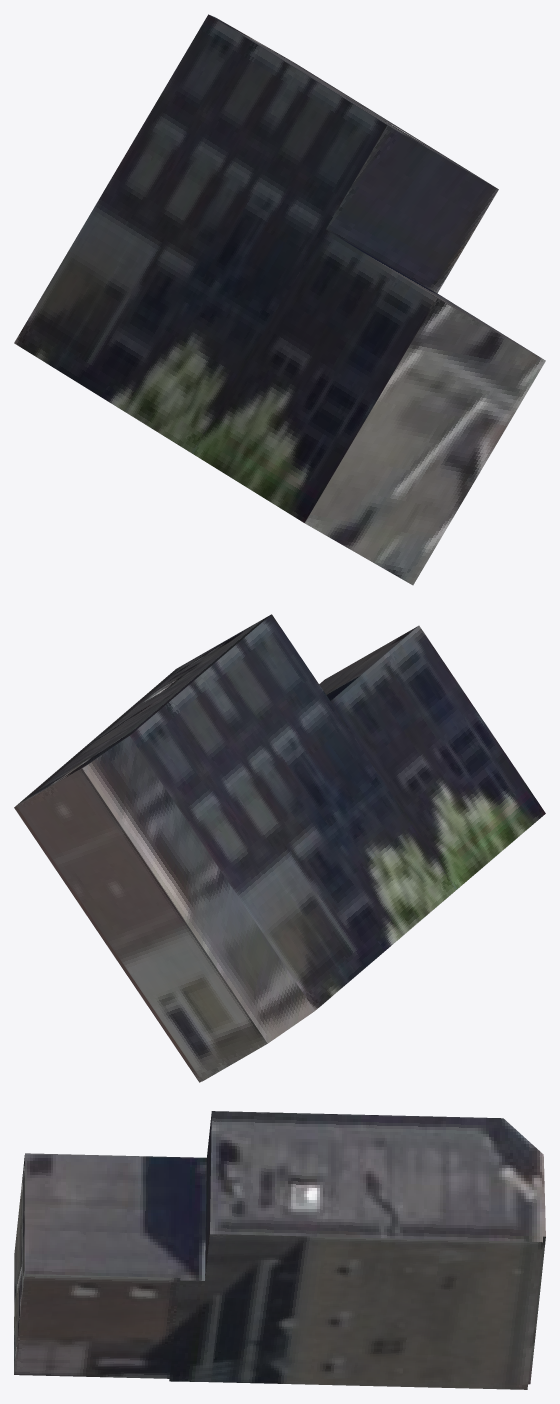
The picture shows the model from 3 angles, top to bottom: view 1: azimuth 30°, elevation 25°; view 2: azimuth 150°, elevation 25°; view 3: azimuth 270°, elevation 25°; orthographic projection. The views are drawn at different scales.
Parts seen in each view (by area): view 1: BAG_0599100000760421; view 2: BAG_0599100000760421; view 3: BAG_0599100000760421.
Boxes of the visible parts, bbox=[...] form: BAG_0599100000760421: bbox=[14, 14, 545, 585]; BAG_0599100000760421: bbox=[14, 614, 545, 1082]; BAG_0599100000760421: bbox=[14, 1111, 545, 1389].
Size of the model in its own units: 11.05 by 12.35 by 18.53.
Materials: 2 (1 with a texture image).
